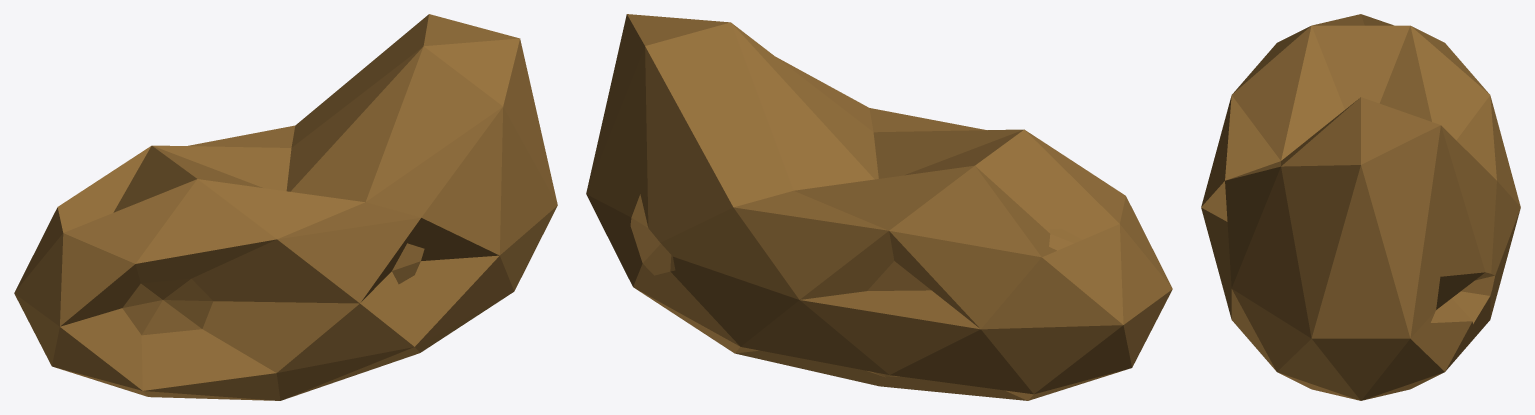
The model's file is asteroid1.fbx.
3 views of the same model, side by side, from view 1: azimuth 30°, elevation 25°; view 2: azimuth 150°, elevation 25°; view 3: azimuth 270°, elevation 25° (orthographic). The views are drawn at different scales.
Visible parts, largest first — view 1: Icosphere; view 2: Icosphere; view 3: Icosphere.
Part boxes in pixels (bbox=[...]): Icosphere: bbox=[14, 14, 557, 400]; Icosphere: bbox=[586, 14, 1172, 400]; Icosphere: bbox=[1201, 14, 1520, 400].
Size of the model in its own units: 1808 by 1054 by 931.
